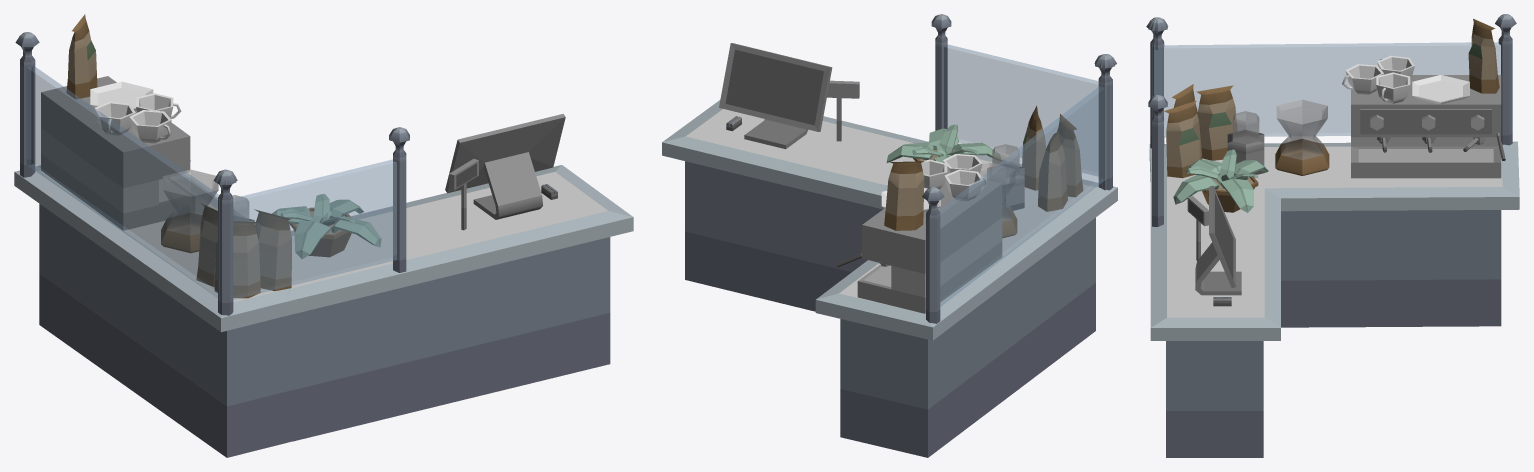
Rendered from counter_premade.fbx.
The picture shows the model from 3 angles, left to right: view 1: azimuth 30°, elevation 25°; view 2: azimuth 150°, elevation 25°; view 3: azimuth 270°, elevation 25°; orthographic projection. The views are drawn at different scales.
Visible parts, largest first — view 1: counter4, counter2, pCylinder10, divider_half, expresso_machine, ipad, lplant2, dripper, cup2, coffee, coffee5, coffee4 (+5 smaller); view 2: counter2, counter4, pCylinder10, divider_half, expresso_machine, ipad, coffee5, lplant2, coffee4, grinder, cup2, coffee (+5 smaller); view 3: counter2, counter4, pCylinder10, expresso_machine, dripper, lplant2, ipad, divider_half, coffee4, cup2, coffee5, grinder (+5 smaller).
Boxes of the visible parts, box(x1,y1,x2,y2) form: counter4: box(284, 165, 633, 441); counter2: box(14, 165, 292, 457); pCylinder10: box(15, 32, 237, 315); divider_half: box(215, 127, 409, 314); expresso_machine: box(41, 76, 194, 230); ipad: box(445, 114, 565, 219); lplant2: box(272, 194, 381, 258); dripper: box(161, 169, 218, 253); cup2: box(254, 209, 291, 291); coffee: box(214, 220, 260, 298); coffee5: box(66, 14, 97, 99); coffee4: box(196, 203, 217, 286); counter2: box(815, 179, 1117, 457); counter4: box(662, 100, 1021, 311); pCylinder10: box(922, 54, 1116, 323); divider_half: box(931, 14, 1114, 190); expresso_machine: box(836, 180, 1002, 313); ipad: box(719, 43, 832, 149); coffee5: box(884, 161, 924, 230); lplant2: box(886, 124, 1000, 162); coffee4: box(1038, 128, 1067, 211); grinder: box(987, 144, 1024, 210); cup2: box(1022, 105, 1045, 190); coffee: box(1057, 114, 1083, 197); counter2: box(1149, 141, 1519, 327); counter4: box(1150, 172, 1280, 457); pCylinder10: box(1146, 14, 1516, 148); expresso_machine: box(1351, 75, 1505, 178); dripper: box(1275, 99, 1329, 175); lplant2: box(1173, 149, 1268, 212); ipad: box(1195, 185, 1241, 295); divider_half: box(1148, 17, 1167, 226); coffee4: box(1196, 85, 1237, 160); cup2: box(1164, 100, 1202, 178); coffee5: box(1468, 18, 1499, 93); grinder: box(1227, 111, 1264, 174).
Size of the model in its own units: 4.1 by 2.82 by 3.45.
